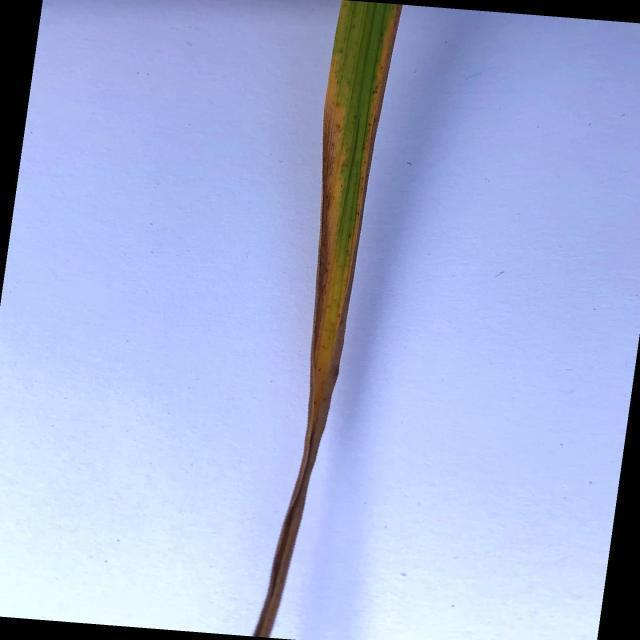Rice Tungro: (305, 0, 411, 503)
